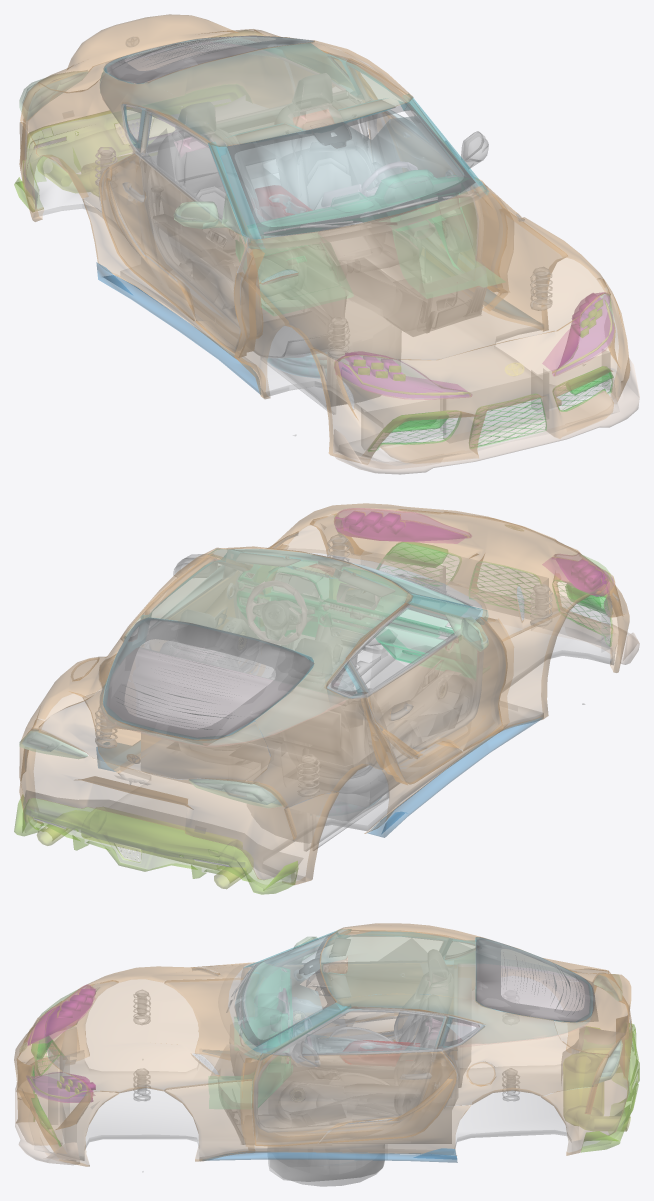
The model's file is toyota_supra_gr_rig.glb.
3 views of the same model, one above another, from view 1: azimuth 30°, elevation 25°; view 2: azimuth 150°, elevation 25°; view 3: azimuth 270°, elevation 25° (orthographic). The views are drawn at different scales.
Visible parts, largest first — view 1: Body_Mesh, Wheel_RR_Mesh, Wheel_FL_Mesh, Wheel_RL_Mesh, Wheel_FR_Mesh; view 2: Body_Mesh, Wheel_FL_Mesh, Wheel_RL_Mesh; view 3: Body_Mesh, Wheel_RL_Mesh, Wheel_FL_Mesh, Wheel_RR_Mesh.
Part boxes in pixels (x1,y1,x2,y2): Body_Mesh: (14, 14, 639, 474); Wheel_RR_Mesh: (268, 288, 401, 378); Wheel_FL_Mesh: (260, 355, 353, 411); Wheel_RL_Mesh: (267, 358, 400, 414); Wheel_FR_Mesh: (268, 270, 395, 377); Body_Mesh: (14, 503, 639, 894); Wheel_FL_Mesh: (251, 792, 388, 850); Wheel_RL_Mesh: (247, 792, 388, 851); Body_Mesh: (14, 923, 639, 1172); Wheel_RL_Mesh: (268, 1153, 383, 1181); Wheel_FL_Mesh: (270, 1144, 384, 1186); Wheel_RR_Mesh: (278, 1153, 371, 1174).
Size of the model in its own units: 2 by 1.66 by 4.38.
